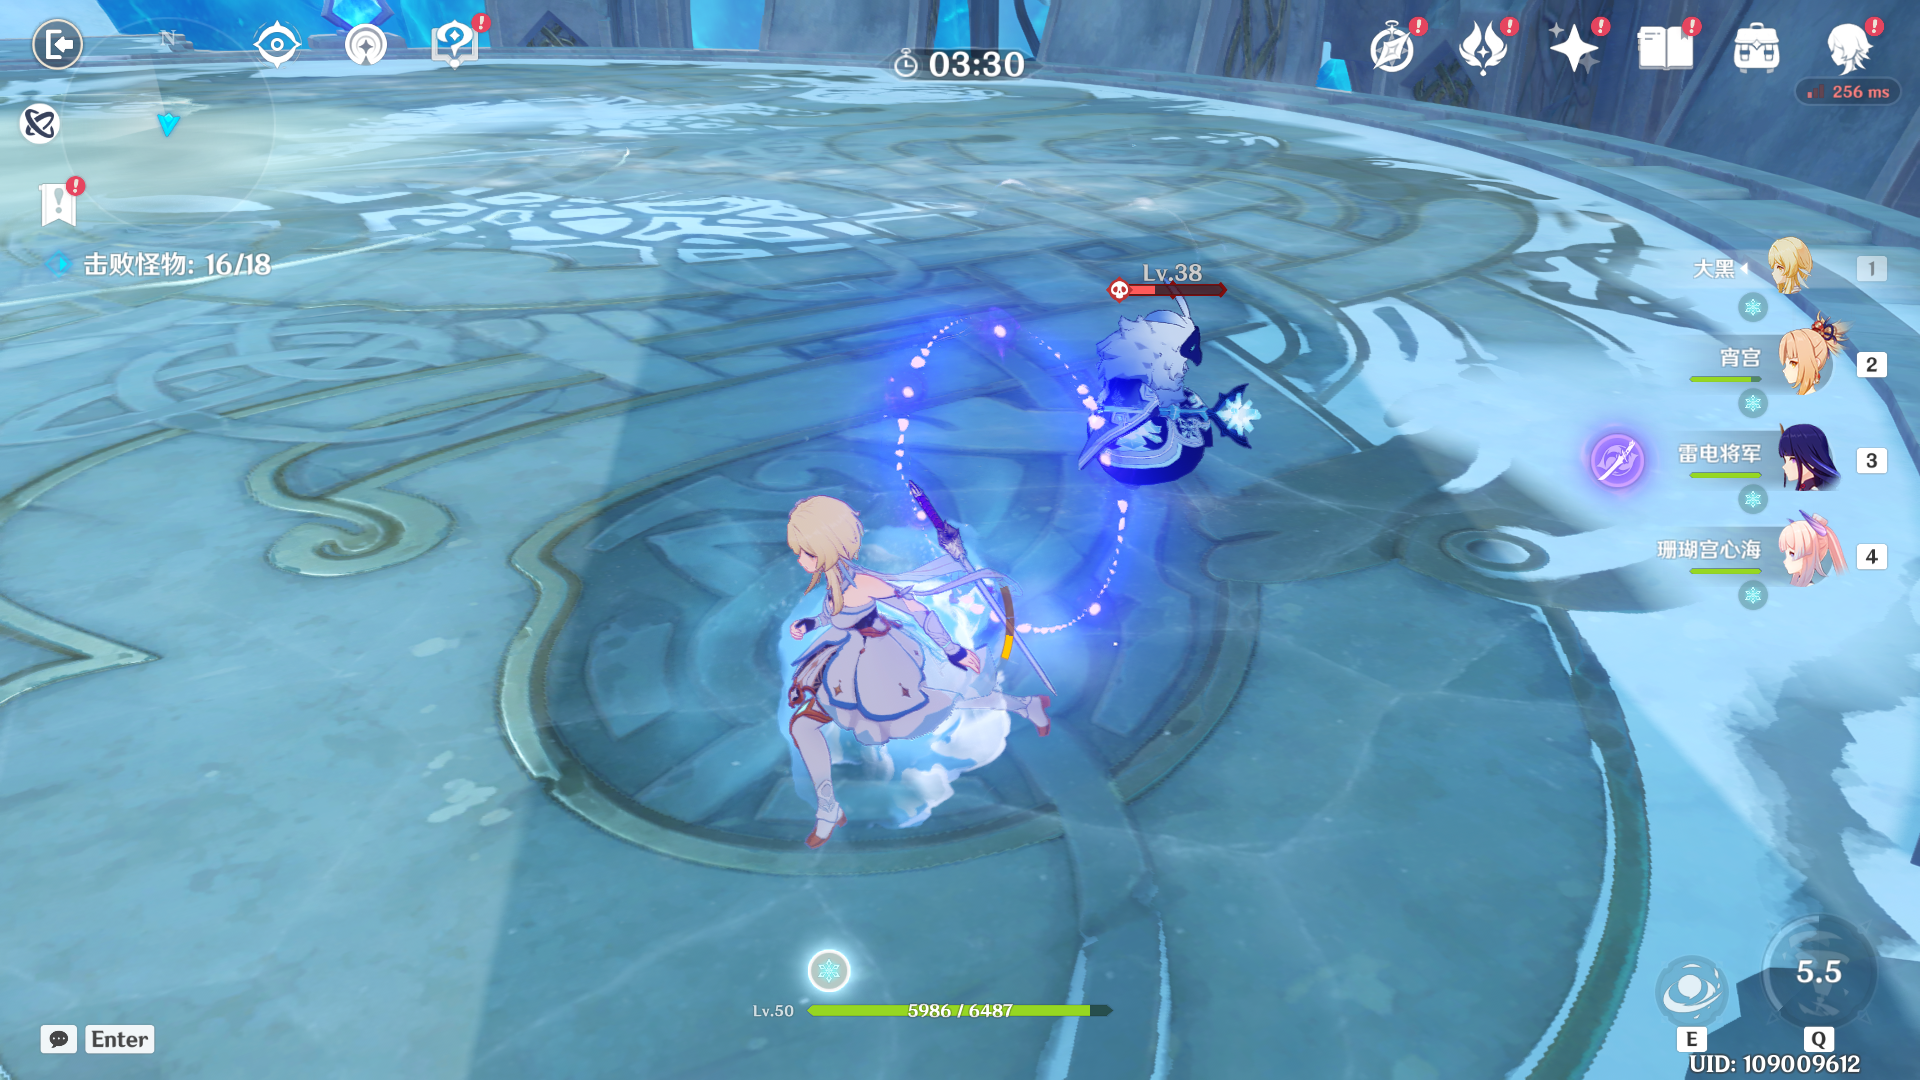caster: (1015, 269, 1305, 527)
character: (723, 492, 1076, 852)
